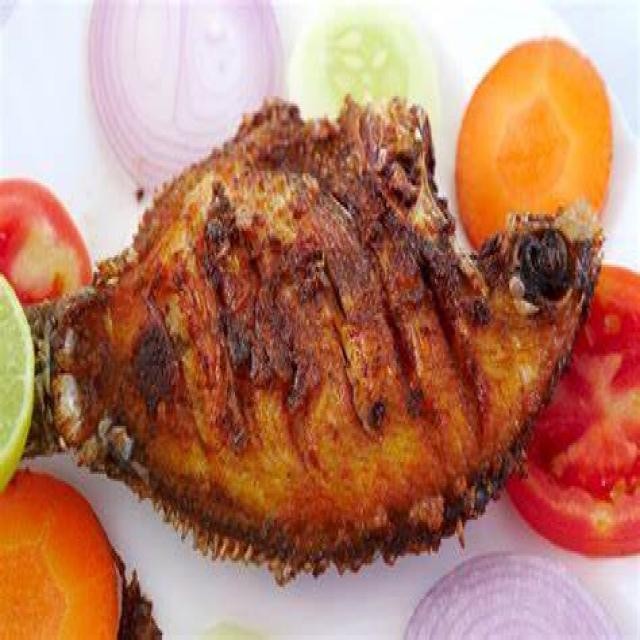Ikan Bakar: (15, 143, 589, 564)
